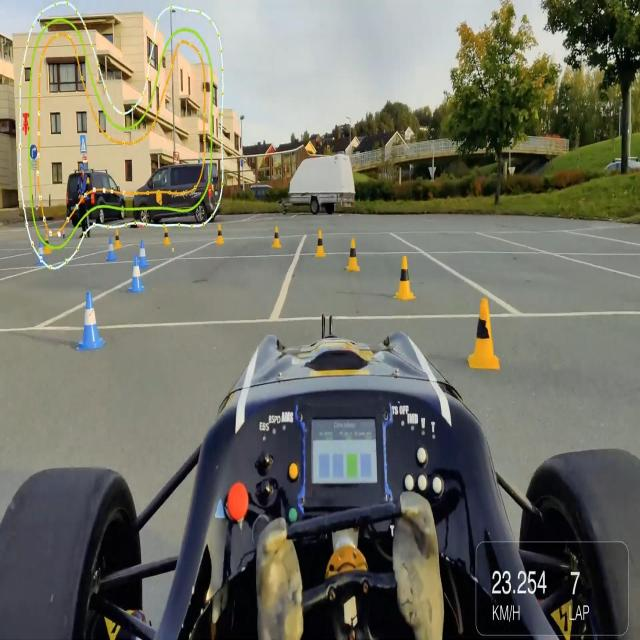blue_cone: (78, 290, 105, 353), (125, 255, 144, 297), (135, 238, 151, 269), (105, 228, 117, 259)
yellow_cone: (469, 289, 504, 379), (395, 245, 420, 302), (345, 232, 361, 271), (312, 225, 328, 262), (270, 222, 284, 253), (160, 222, 174, 251), (212, 217, 226, 244)
